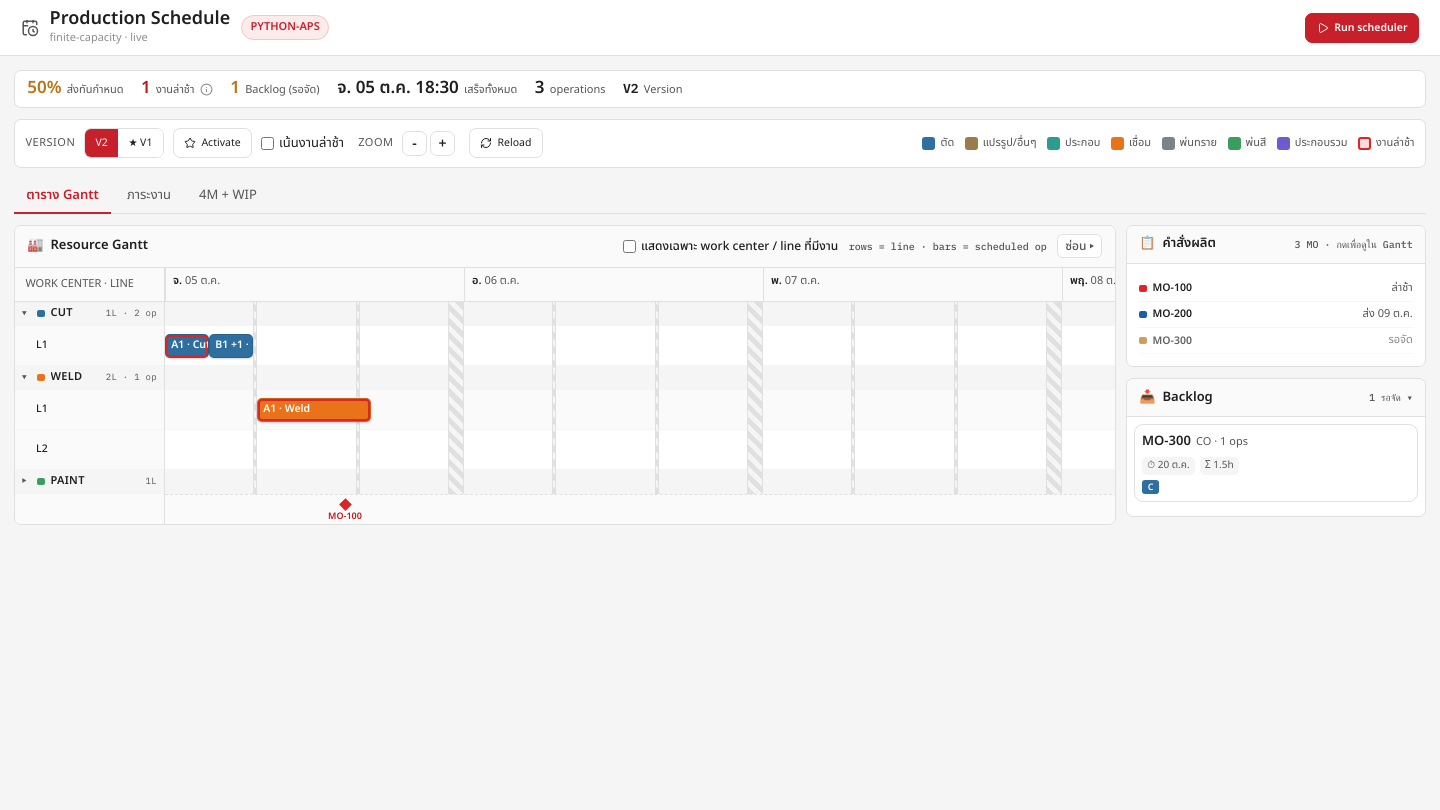
it: ProductionSchedule › opens the WO detail beside the Gantt for a clicked bar, and closes it
The width and height of the screenshot is (1440, 810).
Click the button with aria-label "A1 · Weld · ล่าช้า" at {"x": 314, "y": 410}, box [257,398,371,422]
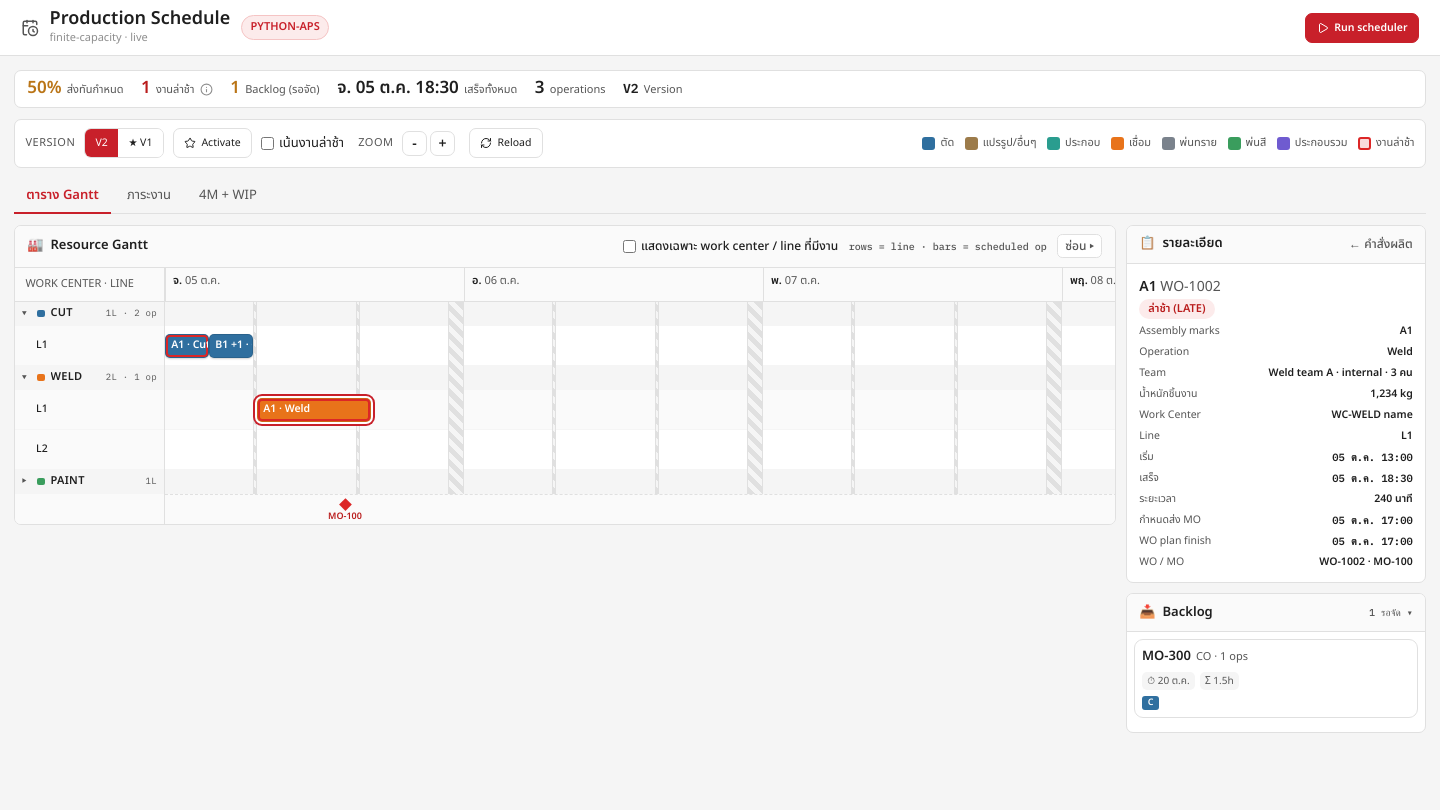
Result: the element with test id "op-detail" shows "ล่าช้า (LATE)" at [1148,300,1206,317]
Result: the element with test id "op-detail" shows "Weld team A · internal · 3 คน" at [1269,365,1413,381]
Result: the element with test id "op-detail" shows "1,234 kg" at [1370,386,1413,402]
Click the button with aria-label "ปิดรายละเอียด" at {"x": 1381, "y": 244}, box [1349,235,1413,253]
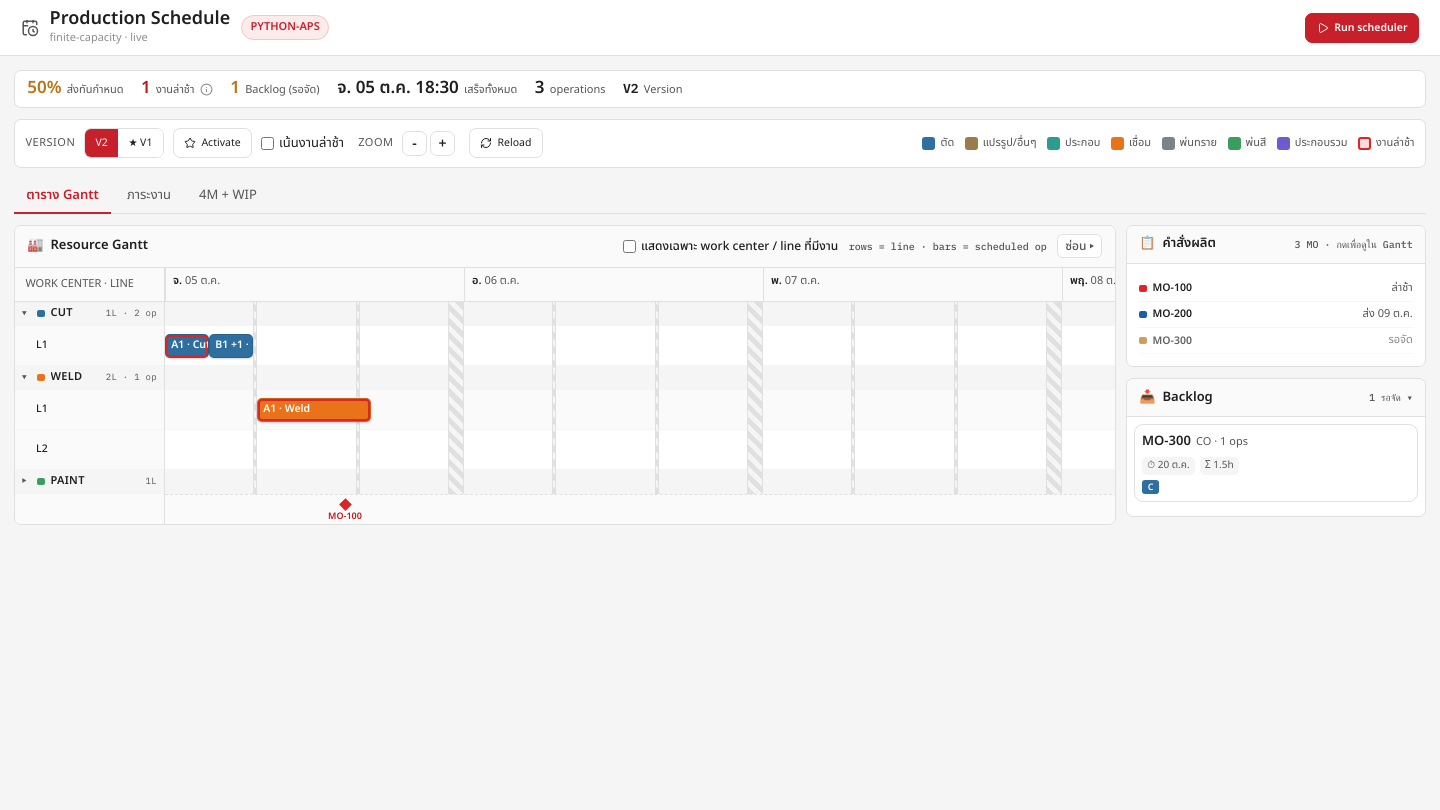
Result: the element with test id "op-detail" is gone
